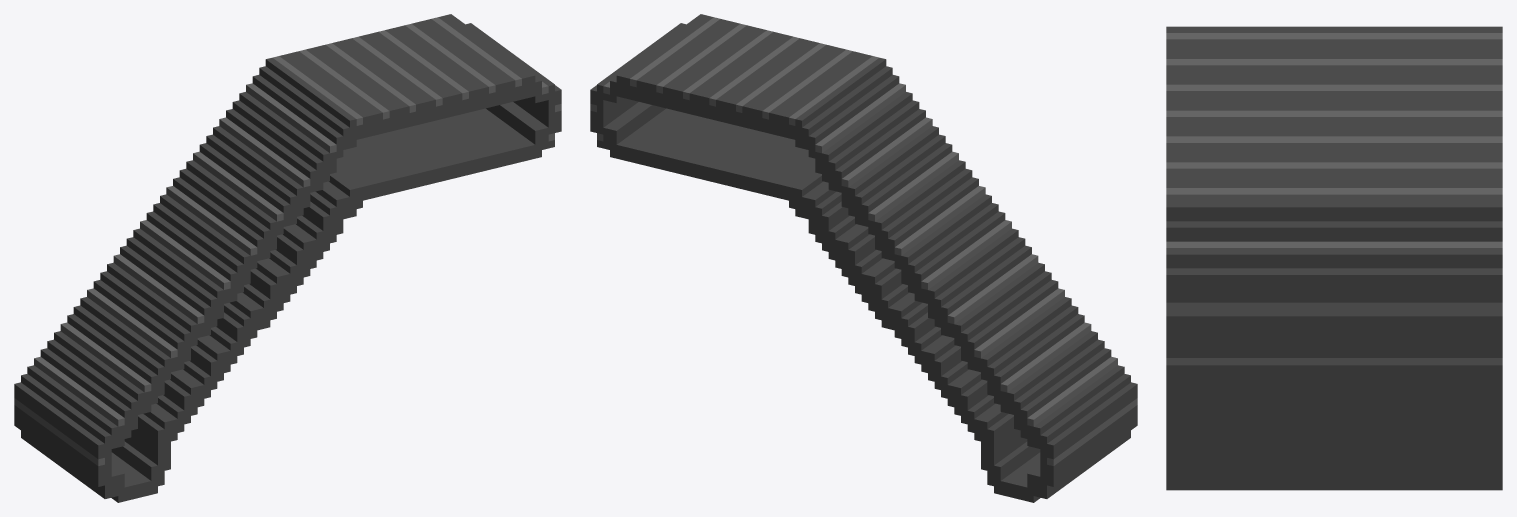
File: ConveyorBelt4.obj
3 views of the same model, side by side, from view 1: azimuth 30°, elevation 25°; view 2: azimuth 150°, elevation 25°; view 3: azimuth 270°, elevation 25° (orthographic). The views are drawn at different scales.
Bounding box in the file's own units: 7 × 4.7 × 2.2.
Materials: 1 (1 with a texture image).
